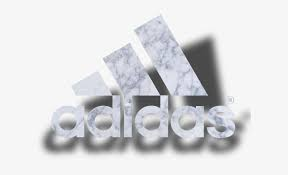adidas: (50, 13, 238, 138)
